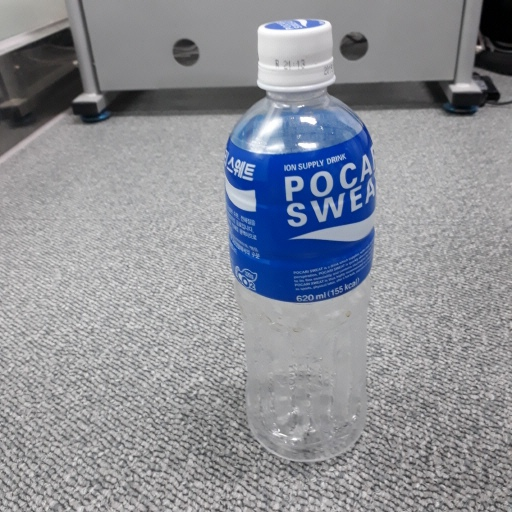Plastic_0: (221, 14, 375, 467)
